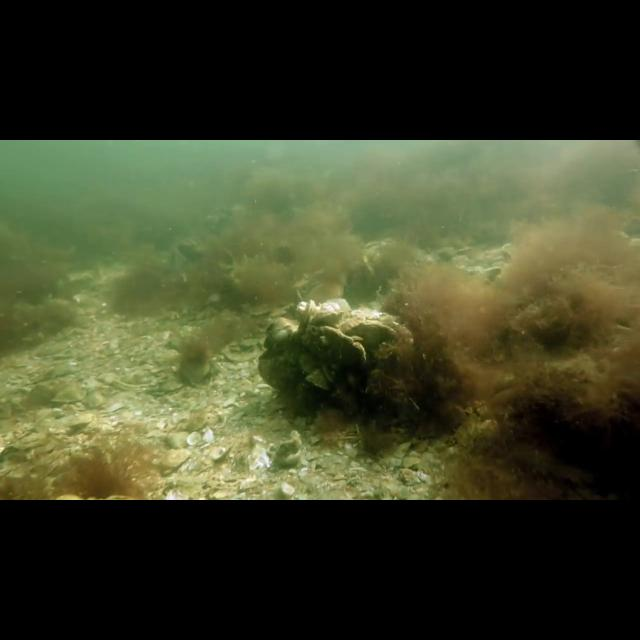Oyster-Closed: (298, 319, 376, 372), (340, 314, 407, 357), (310, 297, 347, 326), (304, 367, 335, 394), (294, 299, 315, 323)
